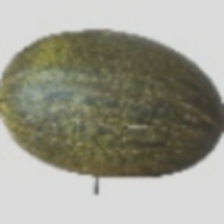honeydew: (12, 4, 189, 196)
